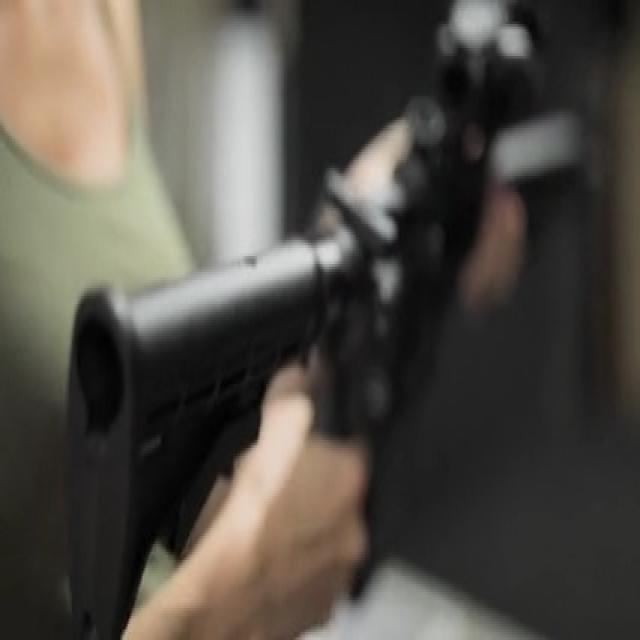Gun_Holder: (48, 13, 595, 627)
